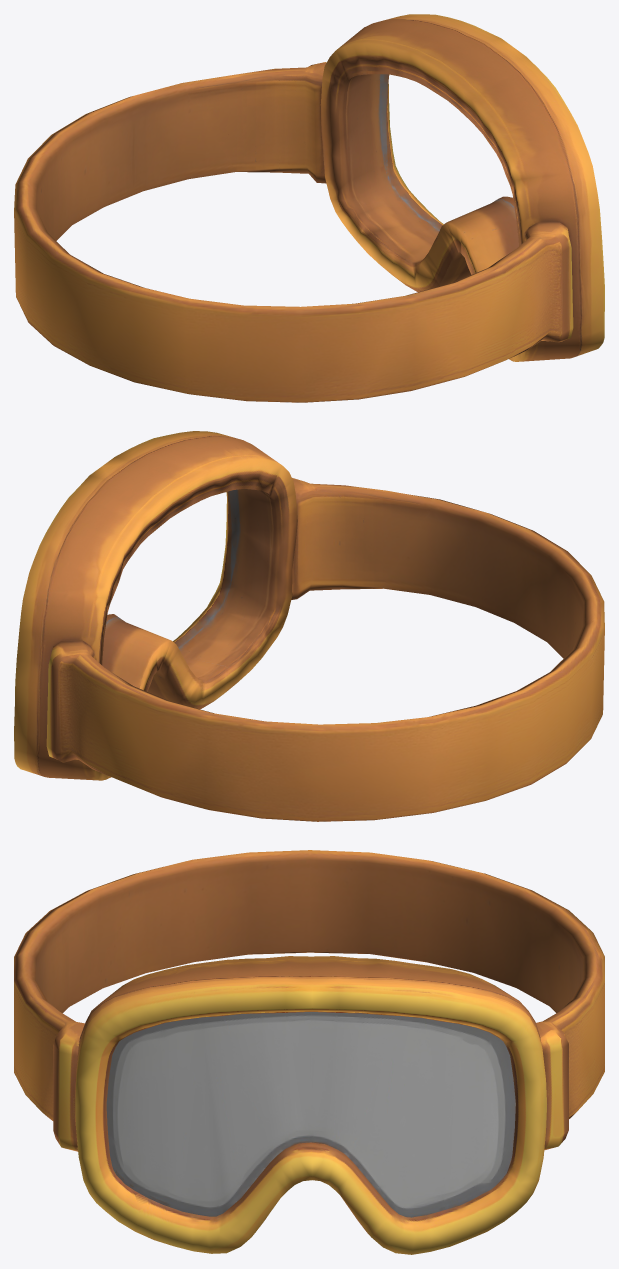
Rendered from goggles-r7.glb.
3 views of the same model, one above another, from view 1: azimuth 30°, elevation 25°; view 2: azimuth 150°, elevation 25°; view 3: azimuth 270°, elevation 25° (orthographic). The views are drawn at different scales.
Visible parts, largest first — view 1: tripo_node_01d0aeed-65e4-440f-846b-bcd0ba0c1797; view 2: tripo_node_01d0aeed-65e4-440f-846b-bcd0ba0c1797; view 3: tripo_node_01d0aeed-65e4-440f-846b-bcd0ba0c1797.
Boxes of the visible parts, left/top/right/bottom form: tripo_node_01d0aeed-65e4-440f-846b-bcd0ba0c1797: left=14, top=14, right=604, bottom=402; tripo_node_01d0aeed-65e4-440f-846b-bcd0ba0c1797: left=14, top=431, right=604, bottom=821; tripo_node_01d0aeed-65e4-440f-846b-bcd0ba0c1797: left=14, top=850, right=604, bottom=1254.
Size of the model in its own units: 0.9824 by 0.502 by 0.998.
Materials: 1 (1 with a texture image).
